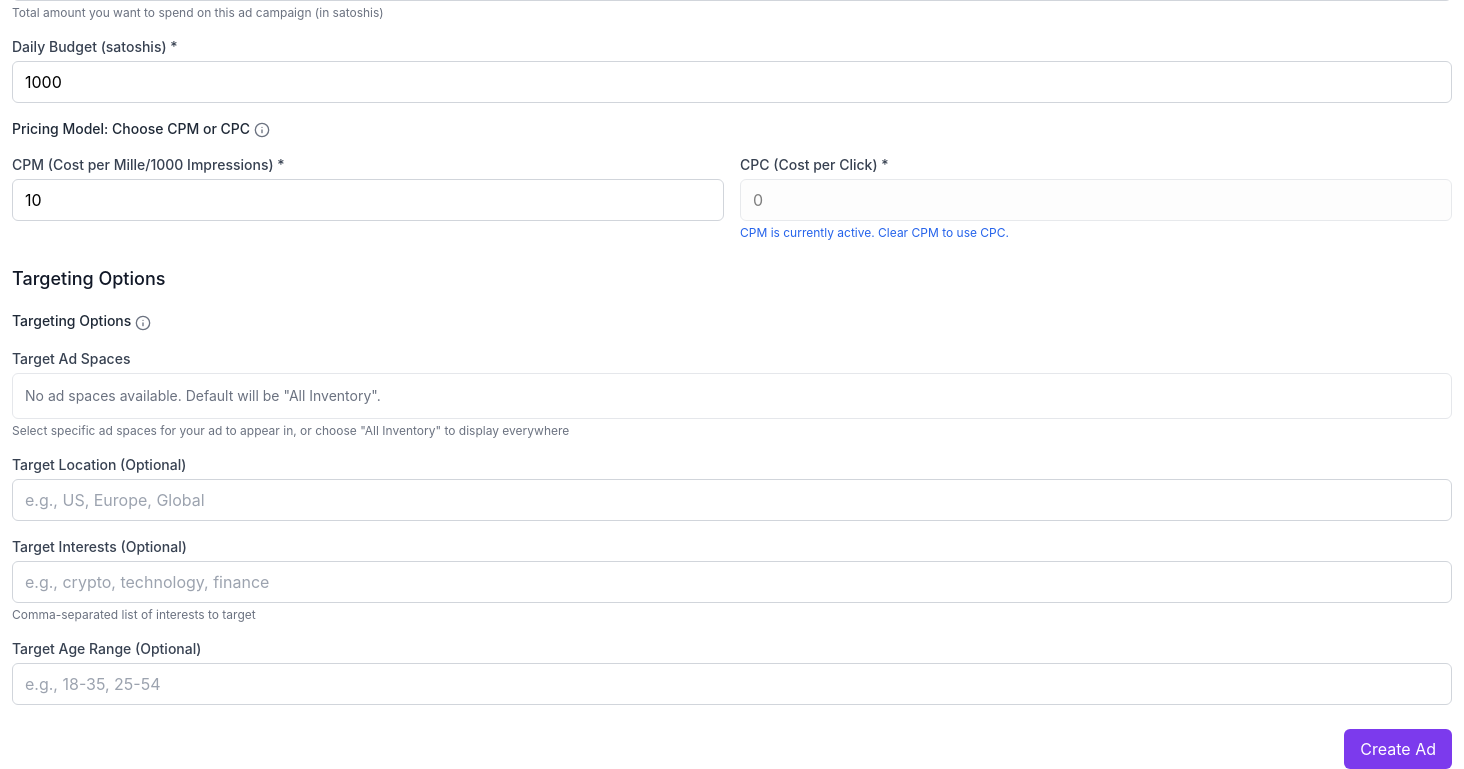
AdForm Component › shows validation errors for required fields when submitting empty form
(page scrolled)
Note: Submit the form without filling in required fields
What coordinates should you click on to do the following:
click the button "Create Ad"
I would click on:
 (1398, 749)
Its box is [1344,729,1452,768].
(page scrolled)
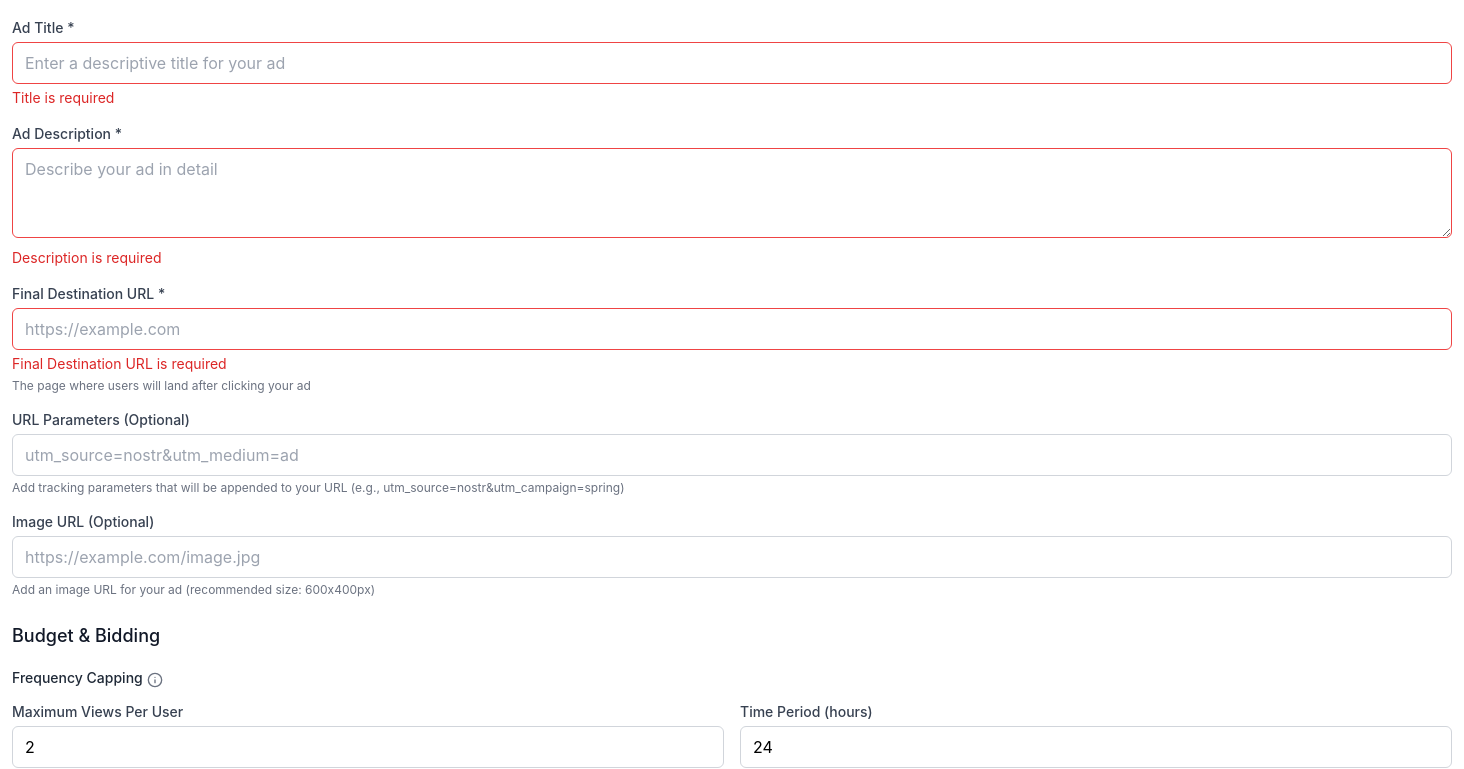
Check: the text "Title is required" is shown, box [12,89,114,106]
Check: the text "Description is required" is shown, box [12,249,162,266]
Check: the text "Final Destination URL is required" is shown, box [12,355,227,372]
